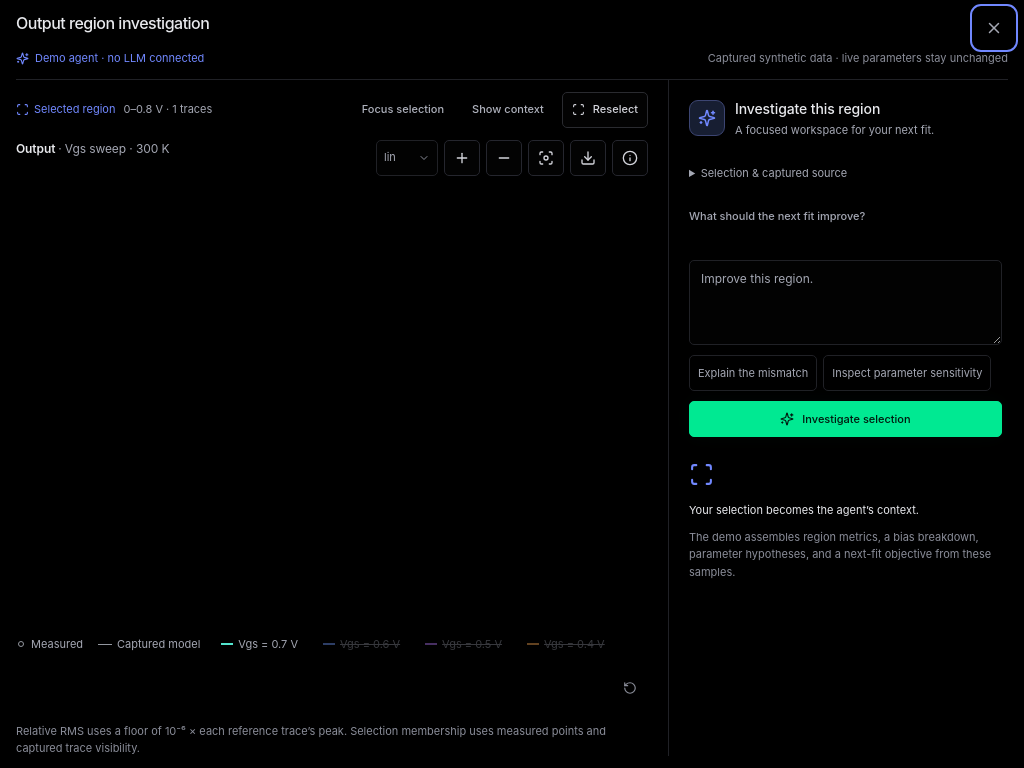
Test: ignores late agent responses after Stop and exposes a retryable integration error
This screenshot has width=1024, height=768.
Click the button "Investigate selection".
click(846, 419)  # box [689,401,1002,437]
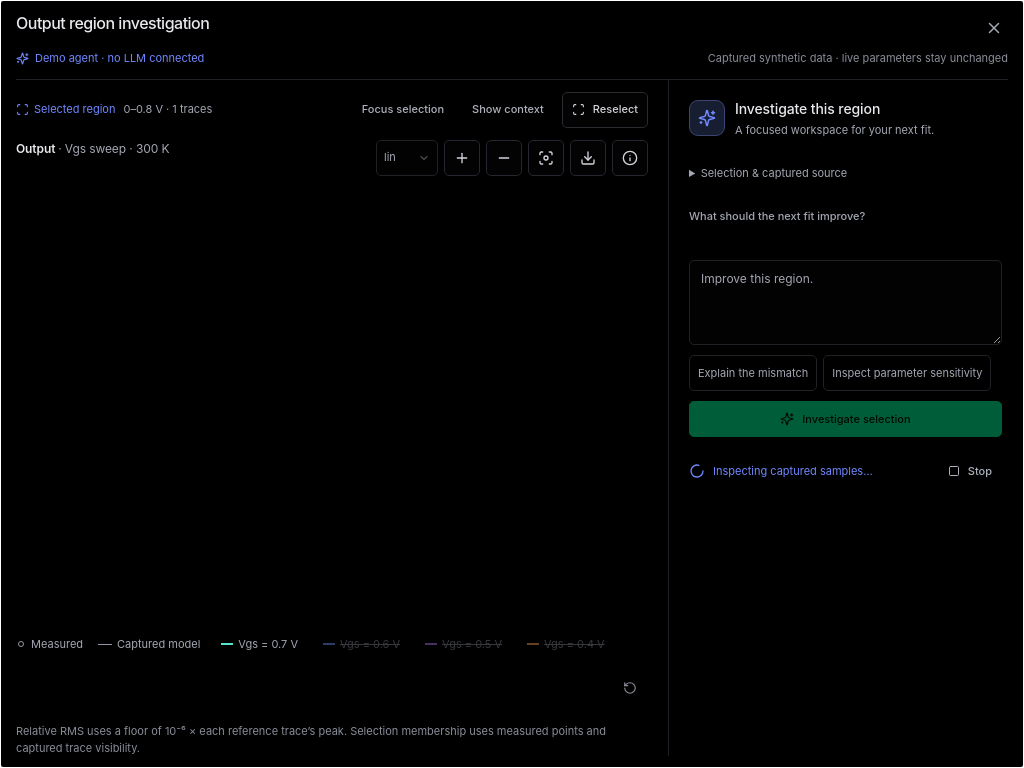
Click the button "Stop".
click(970, 471)  # box [938,453,1002,489]
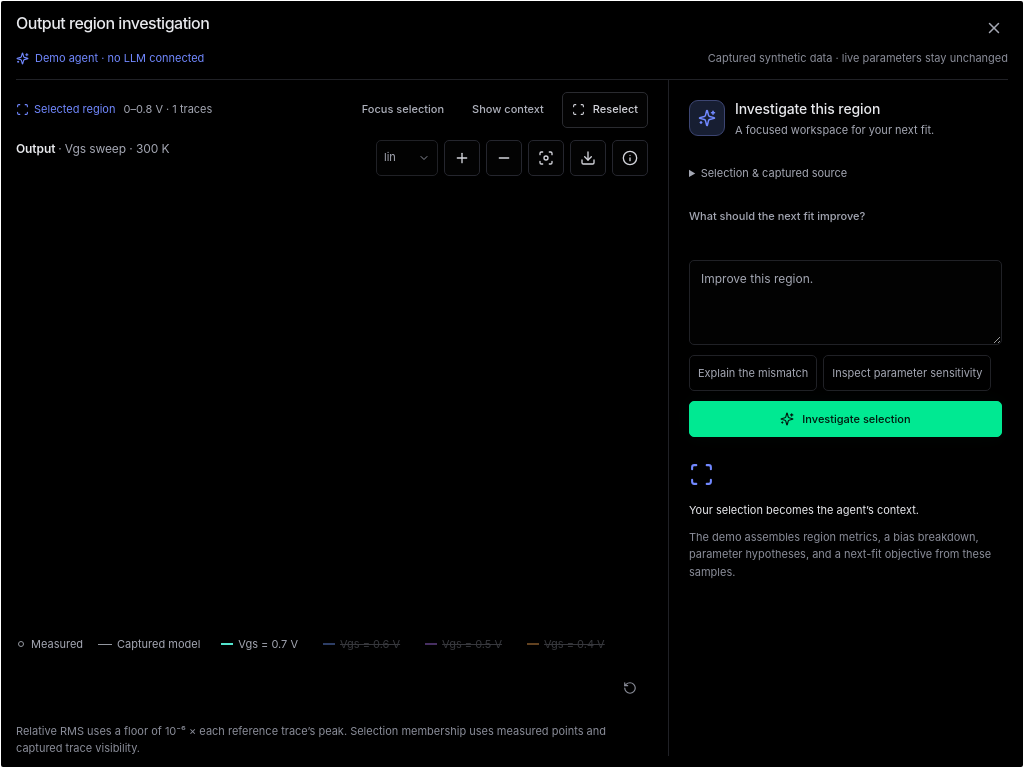
Click the button "Investigate selection".
click(846, 419)  # box [689,401,1002,437]
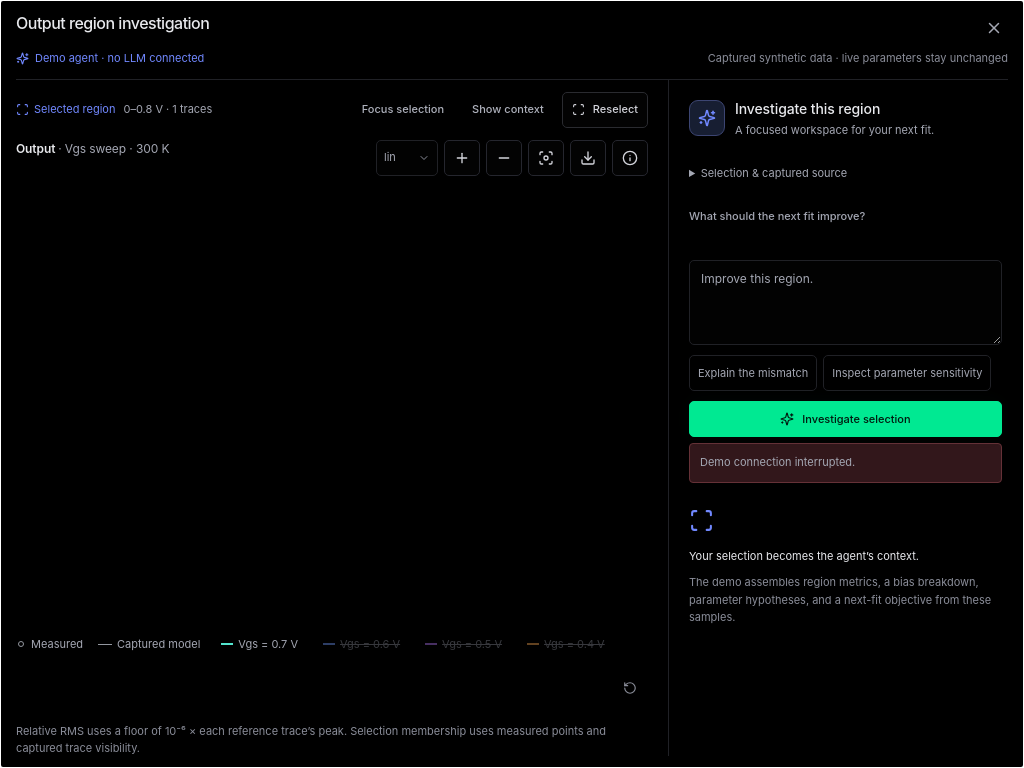
Result: the button "Investigate selection" is enabled at [689,401,1002,437]
Result: the message reads "Demo connection interrupted." at [700,455,855,469]
